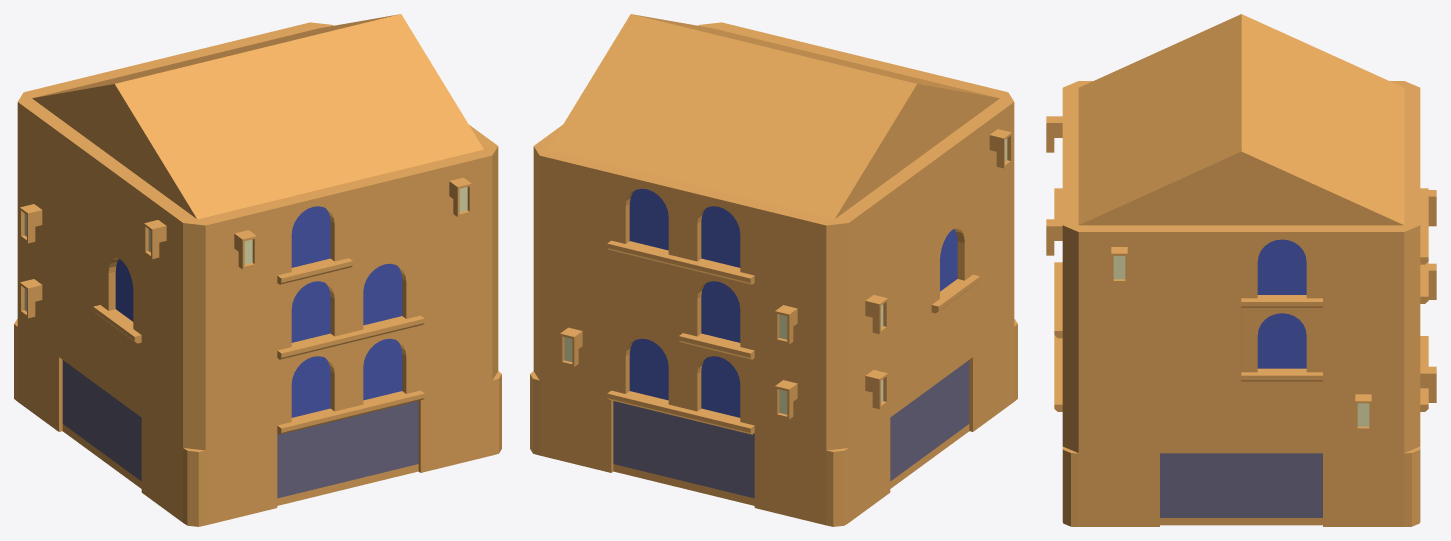
File: house (1).fbx
3 views of the same model, side by side, from view 1: azimuth 30°, elevation 25°; view 2: azimuth 150°, elevation 25°; view 3: azimuth 270°, elevation 25° (orthographic).
Parts seen in each view (by area): view 1: House; view 2: House; view 3: House.
Part boxes in pixels (x1=…): House: x1=14, y1=14, x2=501, y2=526; House: x1=530, y1=14, x2=1017, y2=526; House: x1=1046, y1=14, x2=1436, y2=526.
Bounding box in the file's own units: 480 × 500 × 480.
